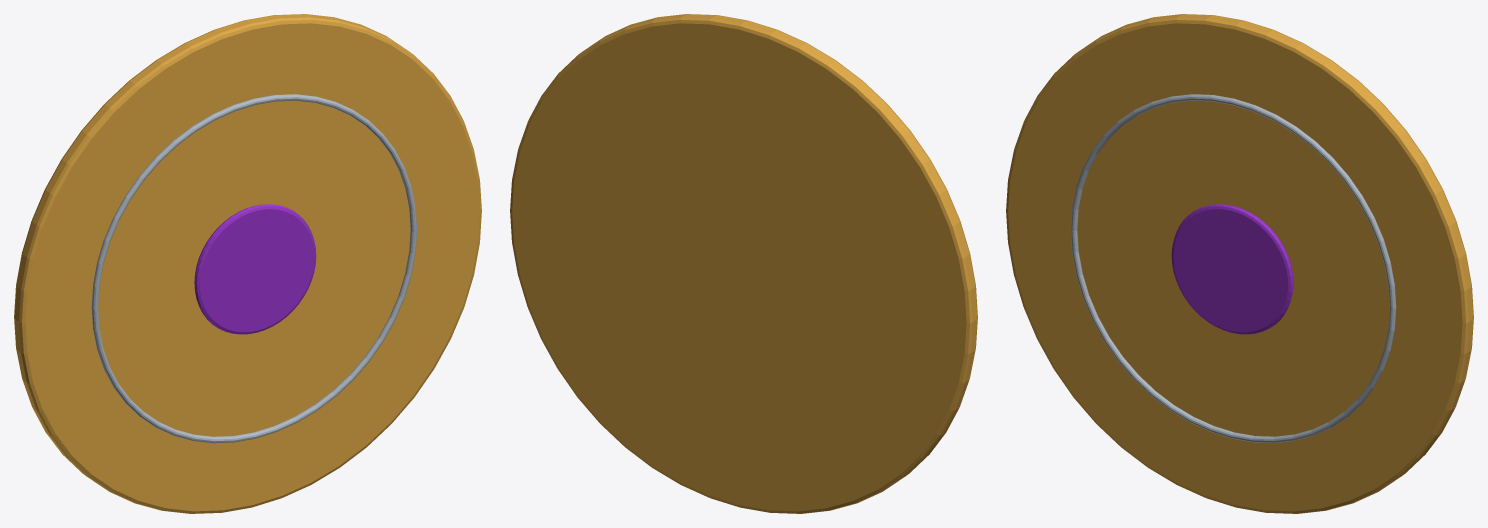
Rendered from disque-or-unique.glb.
3 renders of one model, left to right at view 1: azimuth 30°, elevation 25°; view 2: azimuth 150°, elevation 25°; view 3: azimuth 330°, elevation 25°, orthographic.
Parts seen in each view (by area): view 1: Disque, Label, Sillon; view 2: Disque; view 3: Disque, Label, Sillon.
Part boxes in pixels (bbox=[...]): Disque: bbox=[14, 14, 481, 513]; Label: bbox=[194, 204, 316, 334]; Sillon: bbox=[91, 94, 417, 443]; Disque: bbox=[510, 14, 977, 513]; Disque: bbox=[1006, 14, 1473, 513]; Label: bbox=[1171, 204, 1293, 334]; Sillon: bbox=[1070, 94, 1396, 443].
Size of the model in its own units: 2.9 by 2.9 by 0.15.
